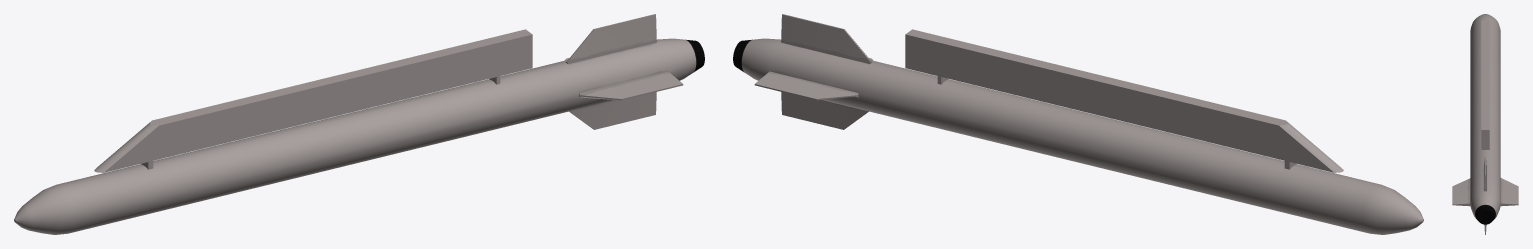
The model's file is smoke pod with pylon.glb.
3 views of the same model, side by side, from view 1: azimuth 30°, elevation 25°; view 2: azimuth 150°, elevation 25°; view 3: azimuth 270°, elevation 25° (orthographic). The views are drawn at different scales.
Parts seen in each view (by area): view 1: Cylinder, Cube; view 2: Cylinder, Cube; view 3: Cylinder, Cube.
Boxes of the visible parts, x1,y1,x2,y2 form: Cylinder: (14, 14, 704, 234); Cube: (94, 29, 532, 172); Cylinder: (733, 14, 1423, 234); Cube: (905, 29, 1343, 172); Cylinder: (1452, 14, 1518, 234); Cube: (1481, 19, 1489, 149).
Bounding box in the file's own units: 2.6 × 0.4139 × 0.3656.
Materials: 1 (1 with a texture image).
